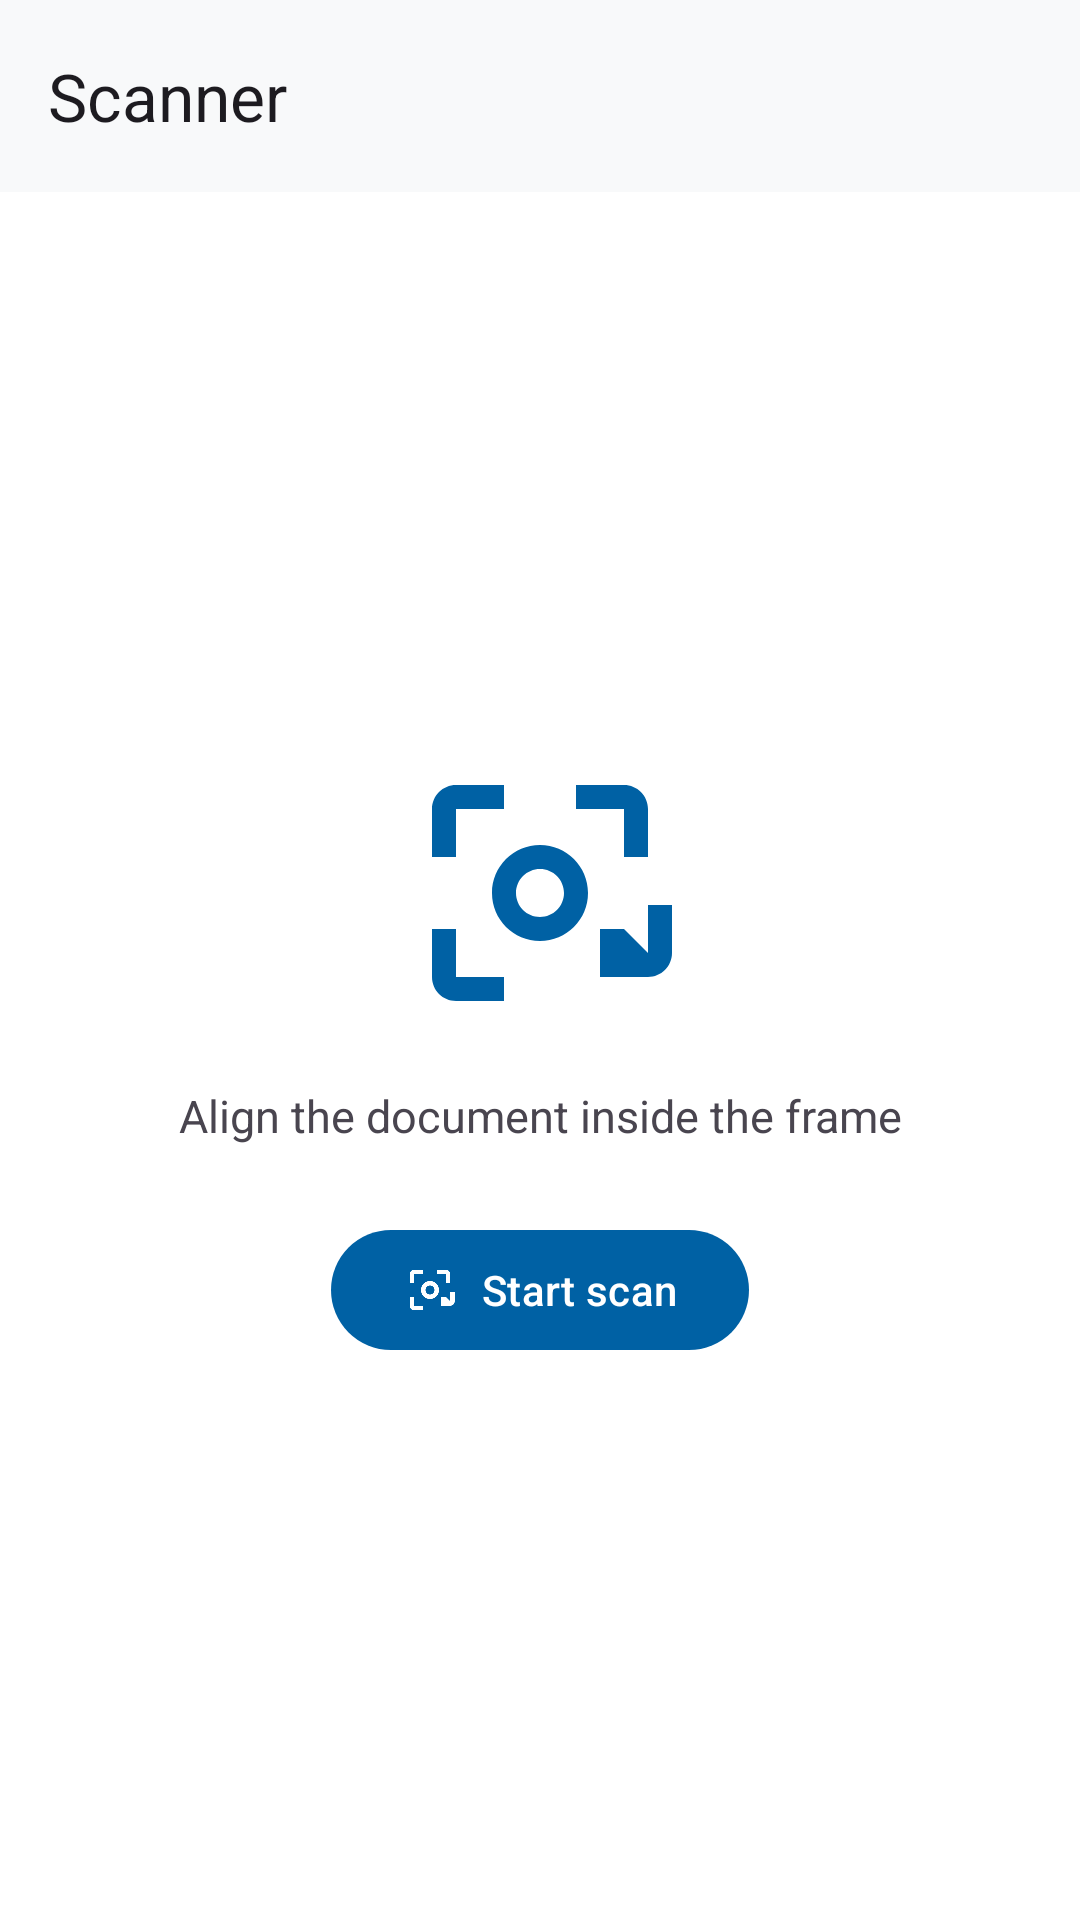

Where icons sit on this 1080 × 1920 app screen, as (x1, y1, x2, y2):
scan: (432, 785, 672, 1001)
